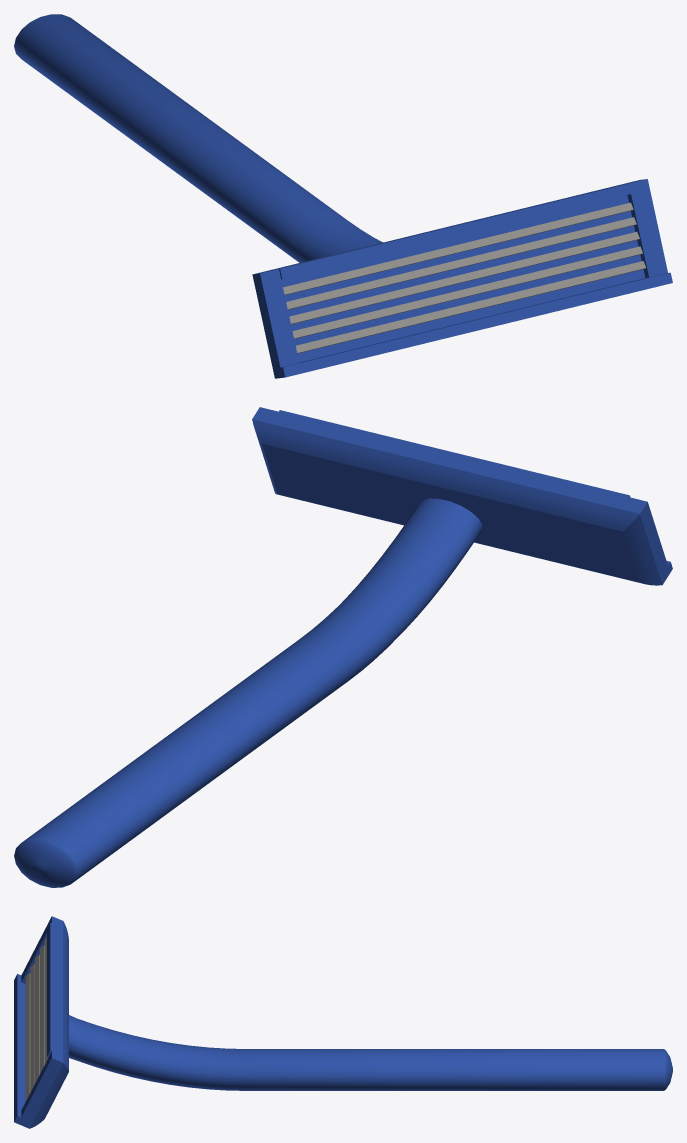
Rendered from Razor.FBX.
3 renders of one model, top to bottom at view 1: azimuth 30°, elevation 25°; view 2: azimuth 150°, elevation 25°; view 3: azimuth 270°, elevation 25°, orthographic. The views are drawn at different scales.
Visible parts, largest first — view 1: Box001, Cylinder001, Box006, Box005, Box003, Box004, Box002; view 2: Cylinder001, Box001; view 3: Cylinder001, Box001, Box002, Box003, Box004, Box005, Box006.
Boxes of the visible parts, <box> form: Box001: <box>252,179,672,378</box>; Cylinder001: <box>14,14,382,262</box>; Box006: <box>283,202,633,294</box>; Box005: <box>286,217,636,309</box>; Box003: <box>292,246,642,338</box>; Box004: <box>289,232,639,324</box>; Box002: <box>295,261,645,353</box>; Cylinder001: <box>14,498,482,887</box>; Box001: <box>252,407,672,585</box>; Cylinder001: <box>69,1015,672,1090</box>; Box001: <box>14,916,68,1128</box>; Box002: <box>25,973,30,1101</box>; Box003: <box>30,964,34,1092</box>; Box004: <box>35,954,39,1083</box>; Box005: <box>40,945,44,1073</box>; Box006: <box>44,938,47,1064</box>.
Bounding box in the file's own units: 67.74 × 22.43 × 133.
2 materials, 2 textured.
